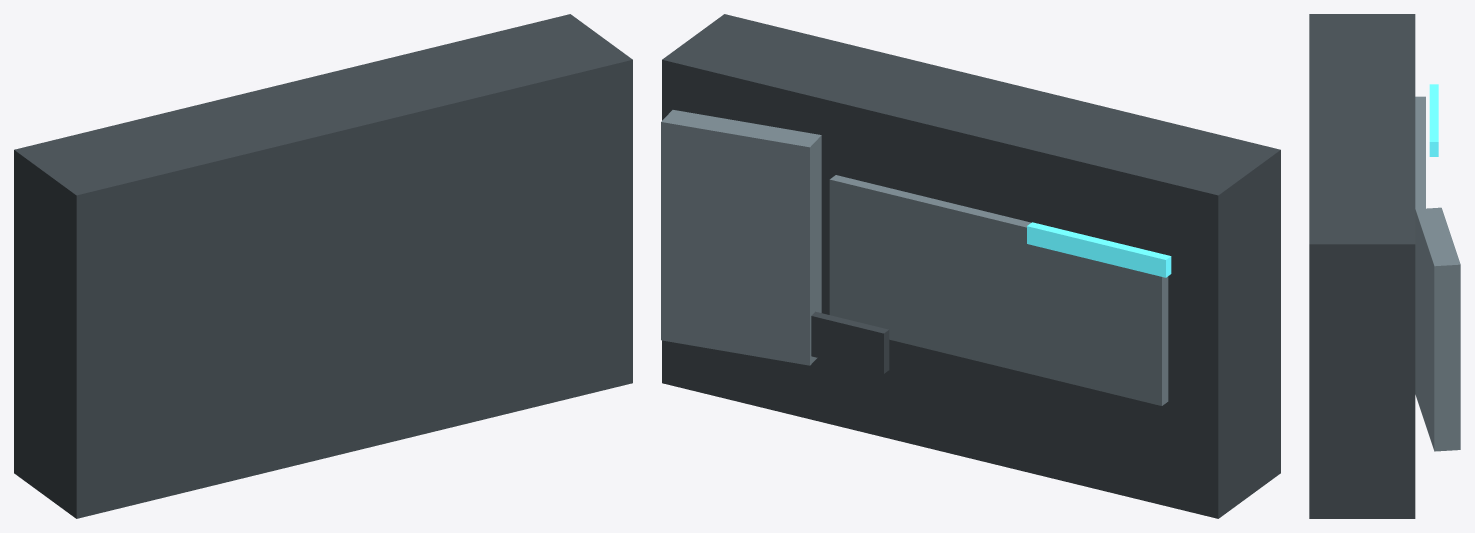
Rendered from Identity-archive_access_panel_broken.glb.
The picture shows the model from 3 angles, left to right: view 1: azimuth 30°, elevation 25°; view 2: azimuth 150°, elevation 25°; view 3: azimuth 270°, elevation 25°; orthographic projection. The views are drawn at different scales.
Visible parts, largest first — view 1: PanelBody; view 2: PanelBody, PanelInset, BrokenDoor, DeadSlot, StatusStrip; view 3: PanelBody, BrokenDoor, PanelInset, StatusStrip.
Part boxes in pixels (x1,y1,x2,y2): PanelBody: (14,14,632,518); PanelBody: (662,14,1280,518); PanelInset: (829,175,1168,405); BrokenDoor: (661,110,821,365); DeadSlot: (811,311,889,373); StatusStrip: (1027,222,1171,277); PanelBody: (1309,14,1415,518); BrokenDoor: (1415,207,1460,451); PanelInset: (1415,96,1425,208); StatusStrip: (1429,84,1438,156).
Bounding box in the file's own units: 1.44 × 0.8 × 0.3997.
